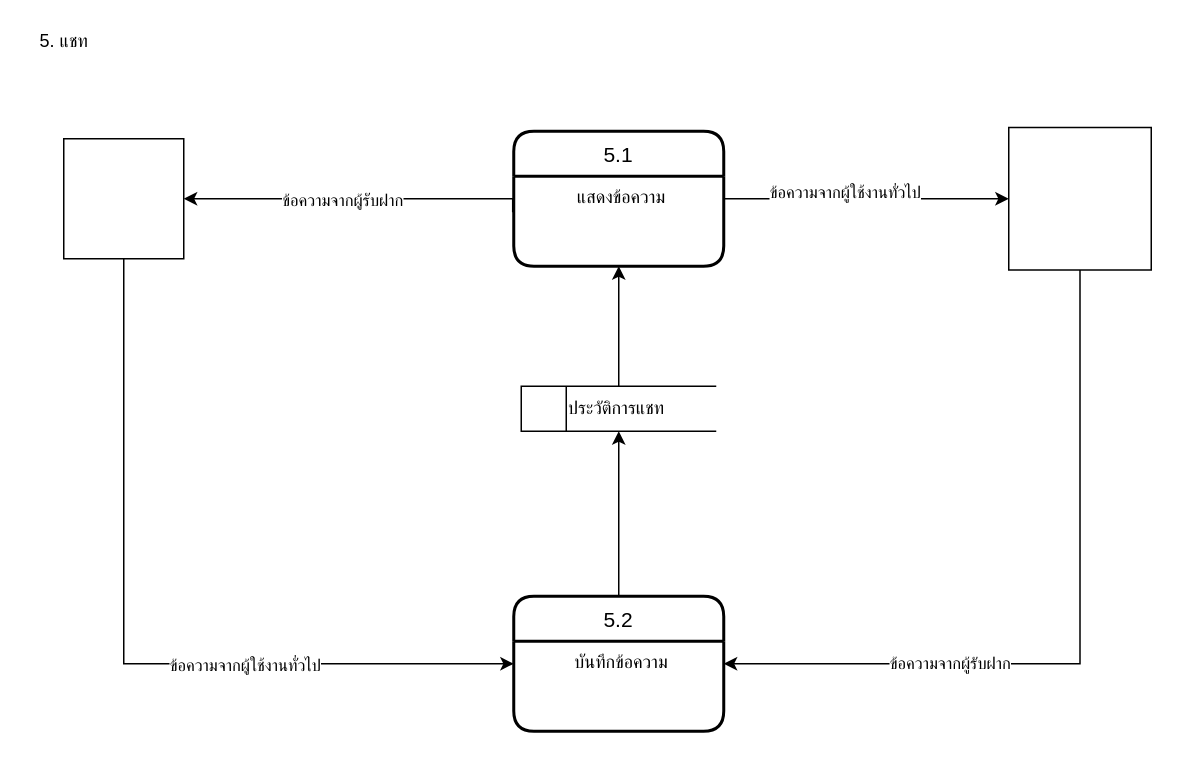
Image size: 1178x758. Some labels were removed from this diagram. The centre of each missing label's shape, as x and y in pixels:
"ผู้รับฝาก" goes at [1079,198].
"ผู้ใช้งานทั่วไป" goes at [123,198].
